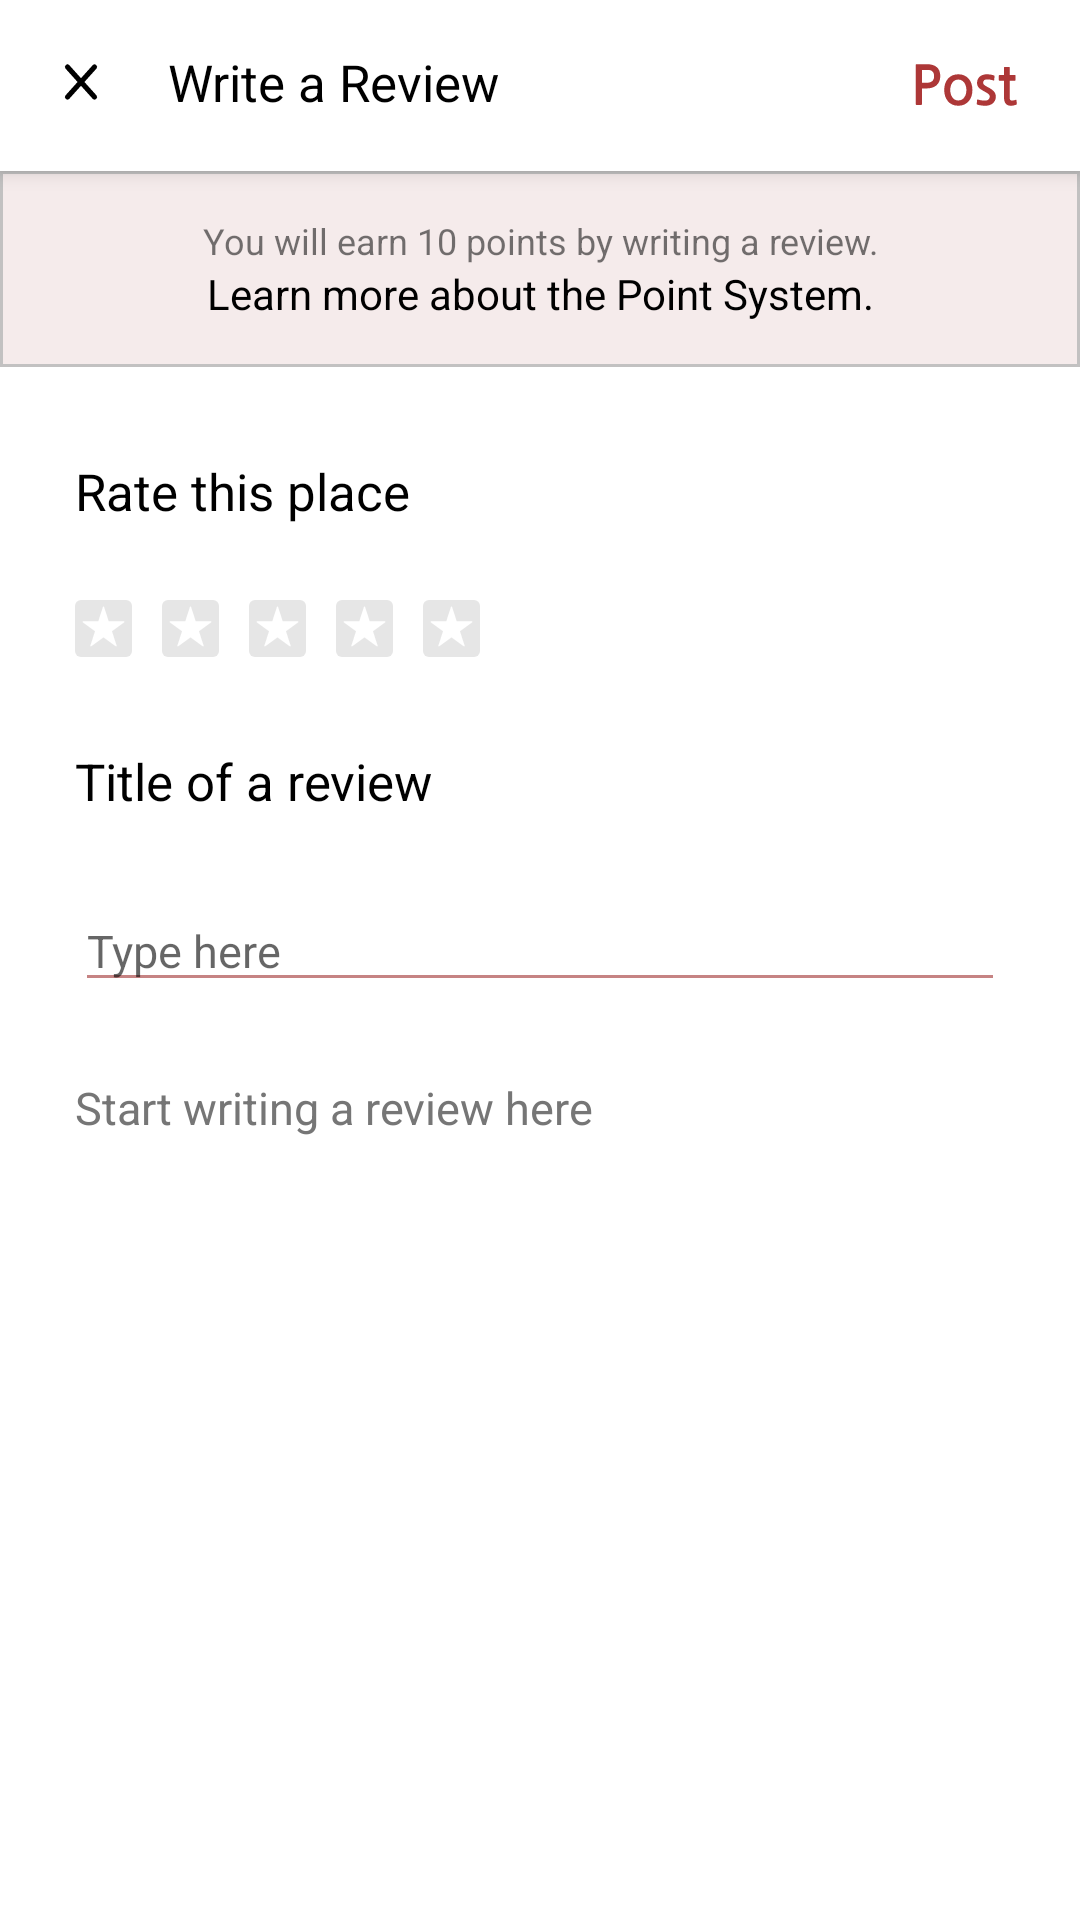

Named icons in this screenshot (1080x1920) and their centers, [x,y]:
exit: [81,82]
review star: [103,628], [190,628], [277,628], [364,628], [451,628]
